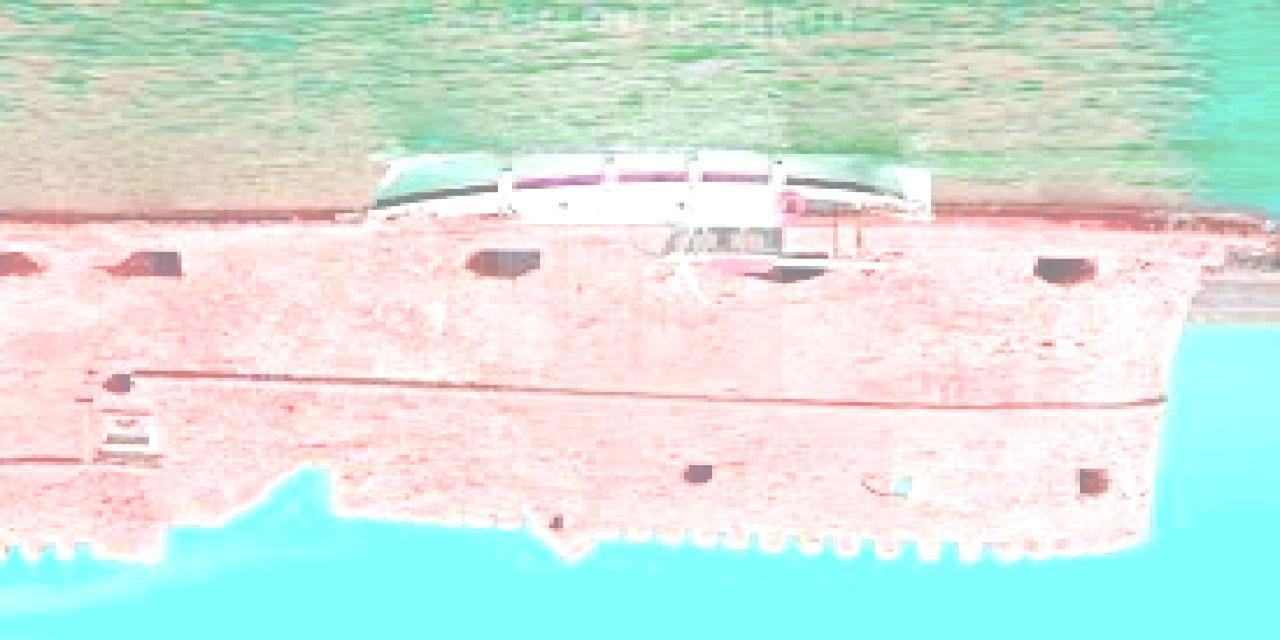Kules: (1, 212, 1274, 566)
